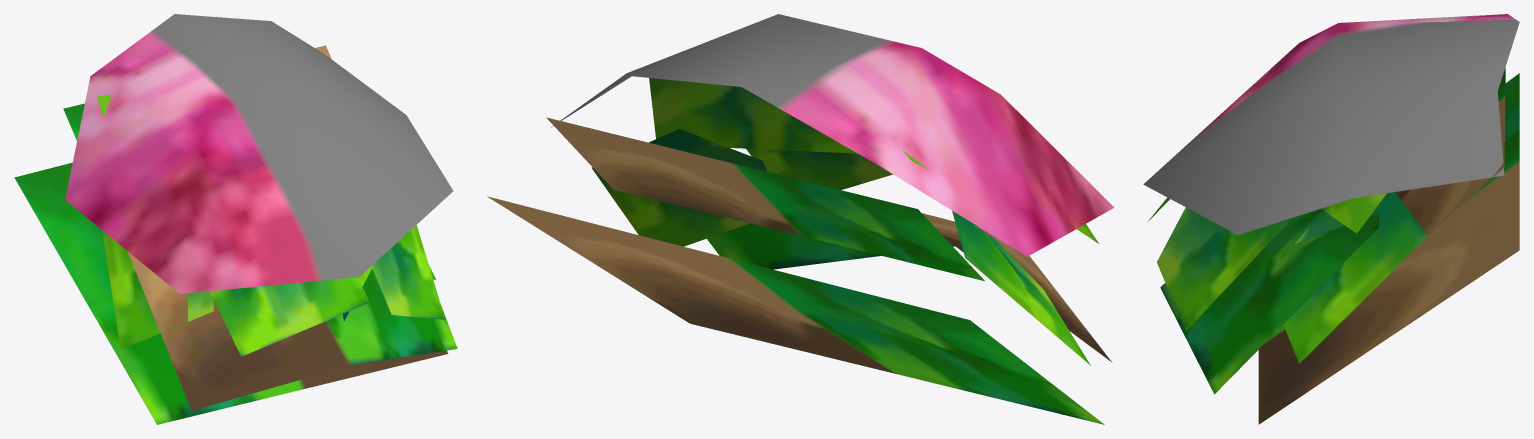
The model's file is fg_bushB_2_s.dae.
3 views of the same model, side by side, from view 1: azimuth 30°, elevation 25°; view 2: azimuth 150°, elevation 25°; view 3: azimuth 270°, elevation 25° (orthographic). The views are drawn at different scales.
Visible parts, largest first — view 1: fg_bushB_2_s; view 2: fg_bushB_2_s; view 3: fg_bushB_2_s.
Part boxes in pixels (<box>): fg_bushB_2_s: <box>14,14,457,424</box>; fg_bushB_2_s: <box>487,14,1114,424</box>; fg_bushB_2_s: <box>1143,14,1519,424</box>.
Bounding box in the file's own units: 43.24 × 35.41 × 37.79.
1 material, 1 textured.
